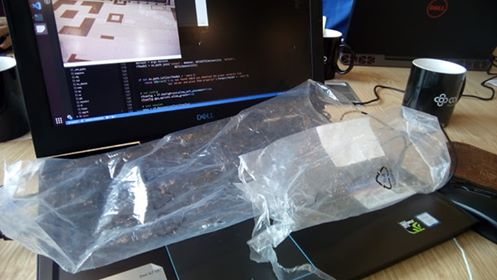plastic bag: (1, 78, 451, 280)
